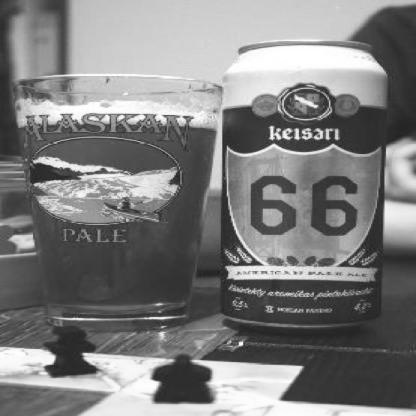alumunium_can: (226, 38, 388, 328)
